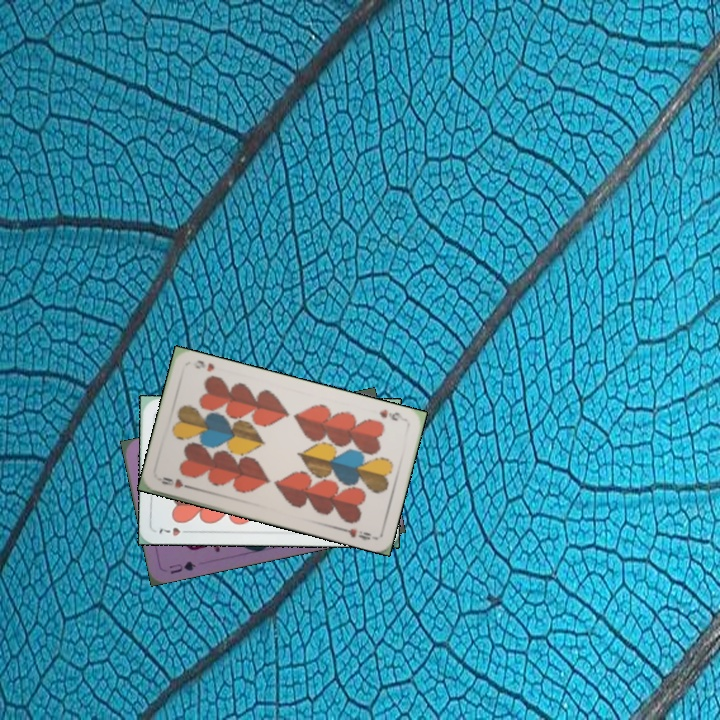GU: (165, 557, 198, 577)
H7: (155, 524, 194, 539)
H9: (157, 473, 196, 492), (375, 405, 408, 424)
